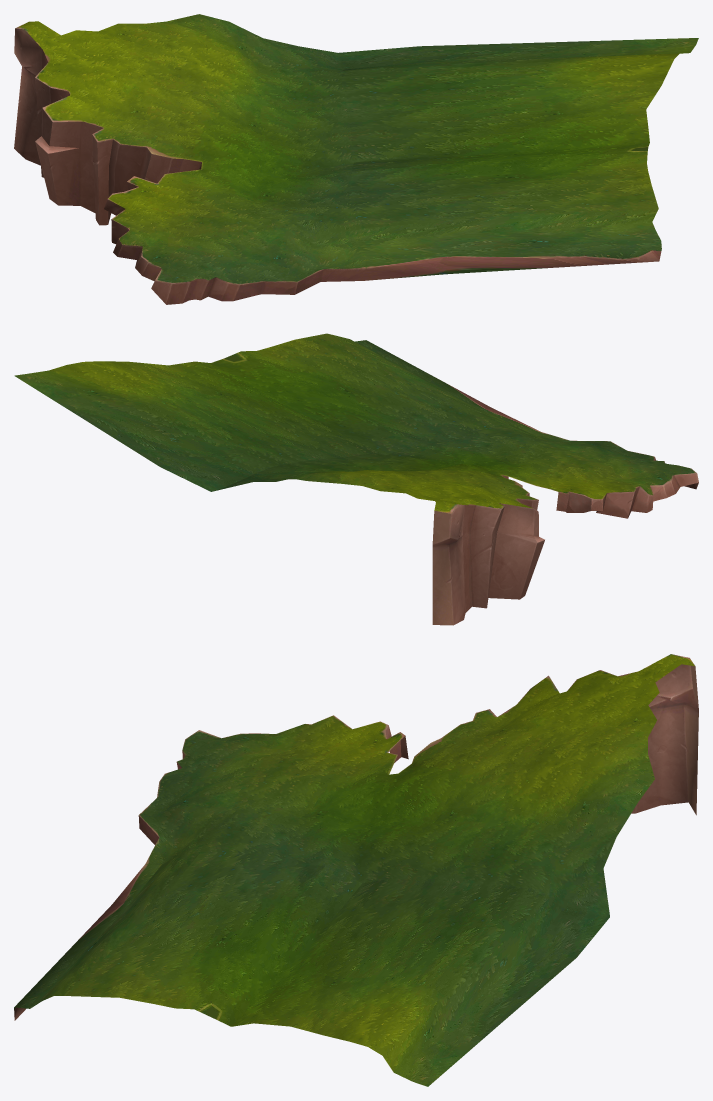
The model's file is ZhuCheng_DiXing_03.fbx.
3 renders of one model, top to bottom at view 1: azimuth 30°, elevation 25°; view 2: azimuth 150°, elevation 25°; view 3: azimuth 270°, elevation 25°, orthographic. The views are drawn at different scales.
Visible parts, largest first — view 1: ZhuCheng_DiXing_03; view 2: ZhuCheng_DiXing_03; view 3: ZhuCheng_DiXing_03.
Boxes of the visible parts, <box> form: ZhuCheng_DiXing_03: <box>14,14,698,304</box>; ZhuCheng_DiXing_03: <box>14,333,698,625</box>; ZhuCheng_DiXing_03: <box>14,654,698,1086</box>.
Size of the model in its own units: 80.3 by 17.06 by 61.09.
1 material, 1 textured.
